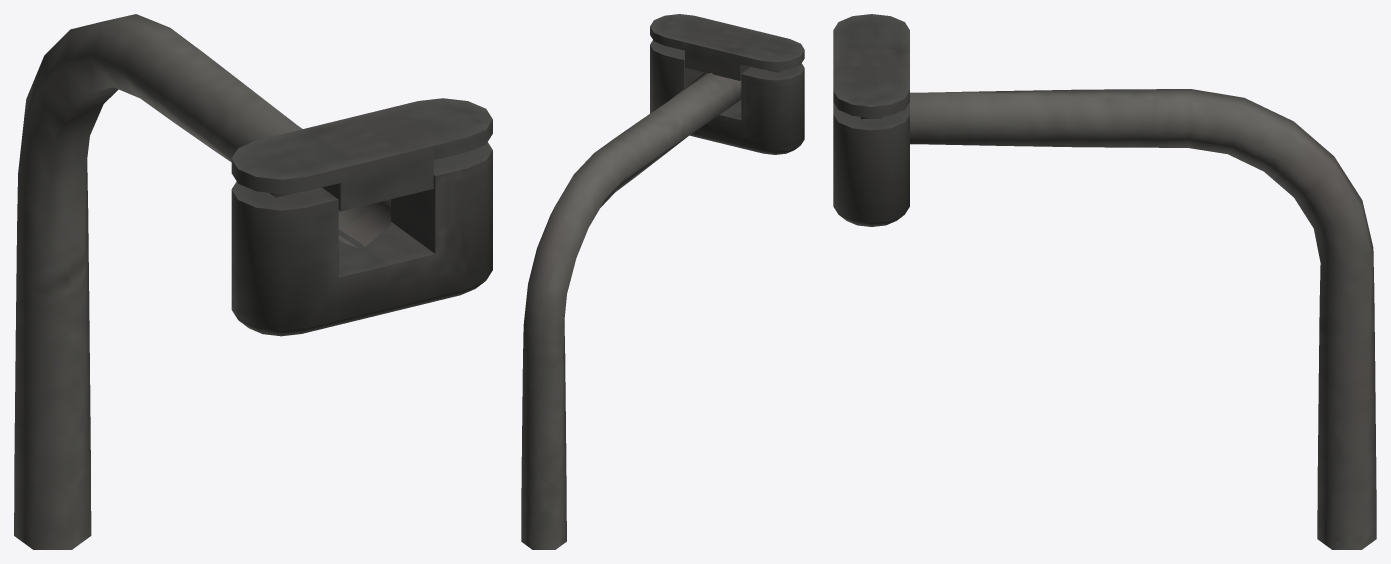
Rendered from cable_corner_towards.gltf.
3 views of the same model, side by side, from view 1: azimuth 30°, elevation 25°; view 2: azimuth 150°, elevation 25°; view 3: azimuth 270°, elevation 25° (orthographic). The views are drawn at different scales.
Parts seen in each view (by area): view 1: cable_corner_towards; view 2: cable_corner_towards; view 3: cable_corner_towards.
Part boxes in pixels (x1=…): cable_corner_towards: x1=14, y1=14, x2=492, y2=549; cable_corner_towards: x1=521, y1=14, x2=804, y2=549; cable_corner_towards: x1=833, y1=14, x2=1376, y2=549.
Bounding box in the file's own units: 0.0416 × 0.1 × 0.1029.
1 material, 1 textured.
